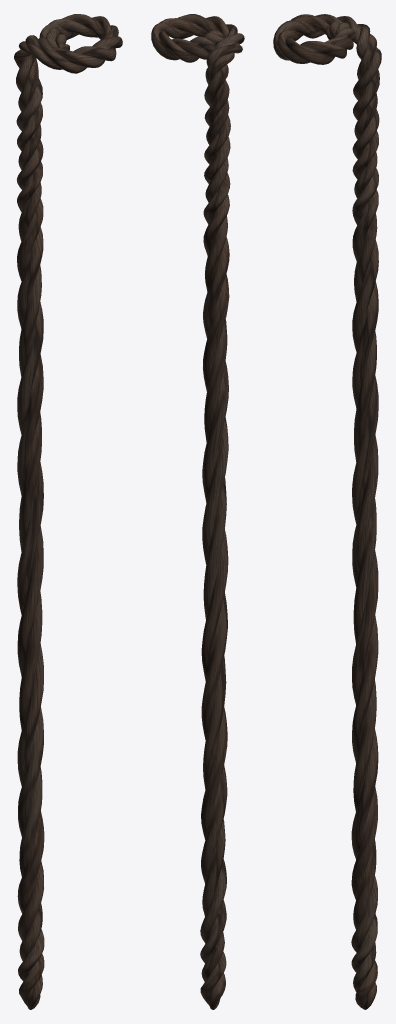
Rendered from GMPLY_Rope_STATIC.fbx.
3 renders of one model, left to right at view 1: azimuth 90°, elevation 25°; view 2: azimuth 210°, elevation 25°; view 3: azimuth 270°, elevation 25°, orthographic.
Visible parts, largest first — view 1: GMPLY_Rope; view 2: GMPLY_Rope; view 3: GMPLY_Rope.
Part boxes in pixels (left/top/right/bottom): GMPLY_Rope: left=14, top=14, right=122, bottom=1009; GMPLY_Rope: left=151, top=14, right=244, bottom=1009; GMPLY_Rope: left=273, top=14, right=381, bottom=1009.
Size of the model in its own units: 4.22 by 50.19 by 5.03.
1 material, 1 textured.
